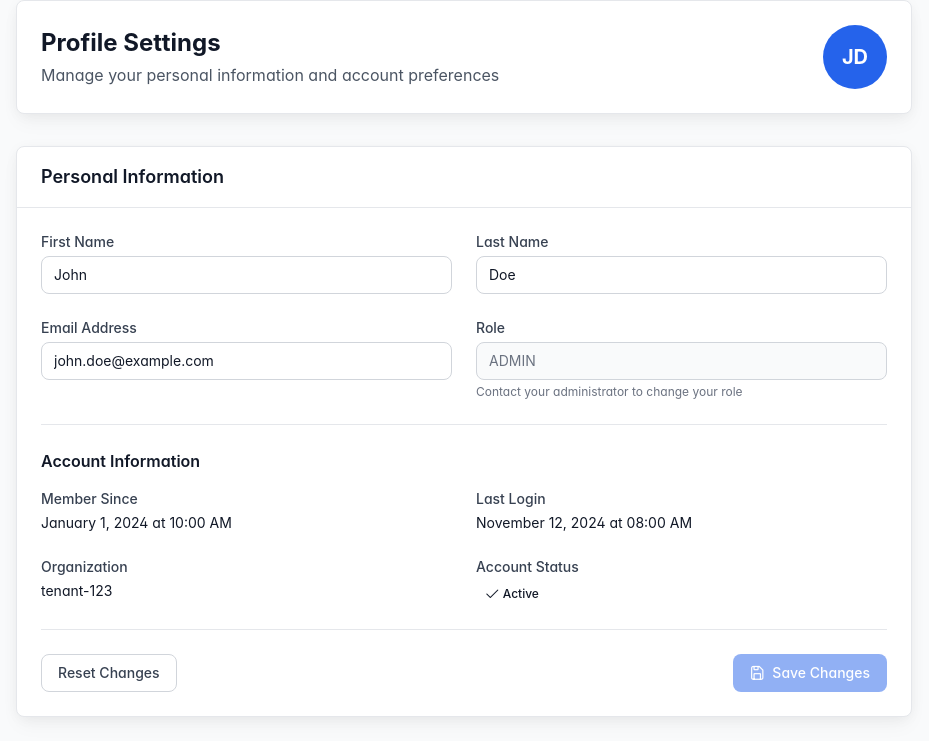
Test: ProfileView › Form Validation › should validate required email
Step 1. Clear the field with id "email" → (246, 361), box top-left (41, 342), bottom-right (452, 380)
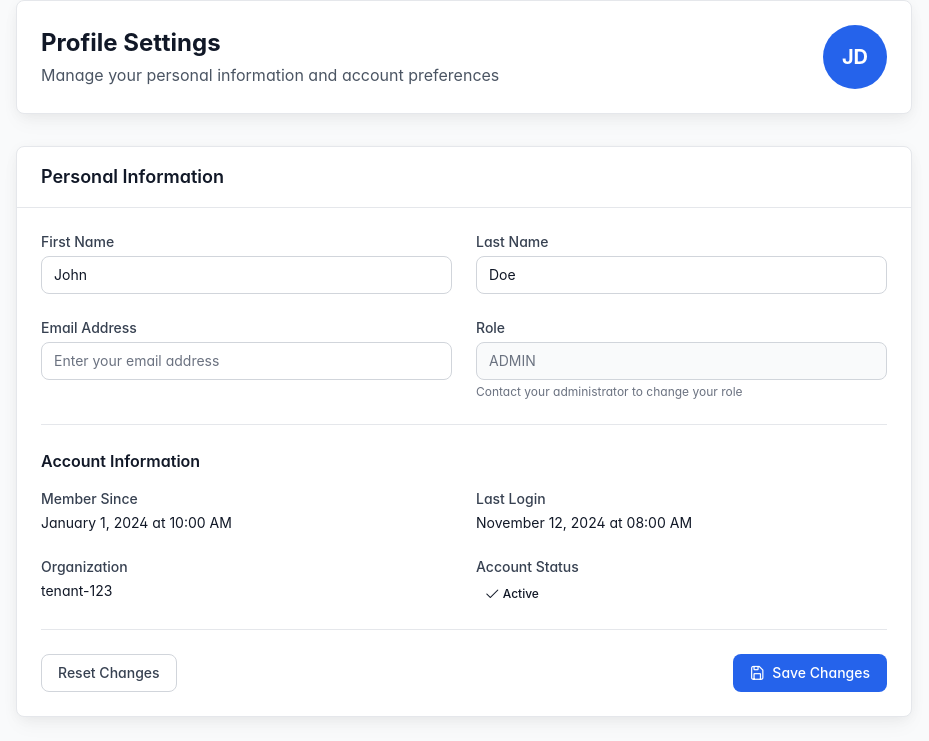
Step 2. Submit the form
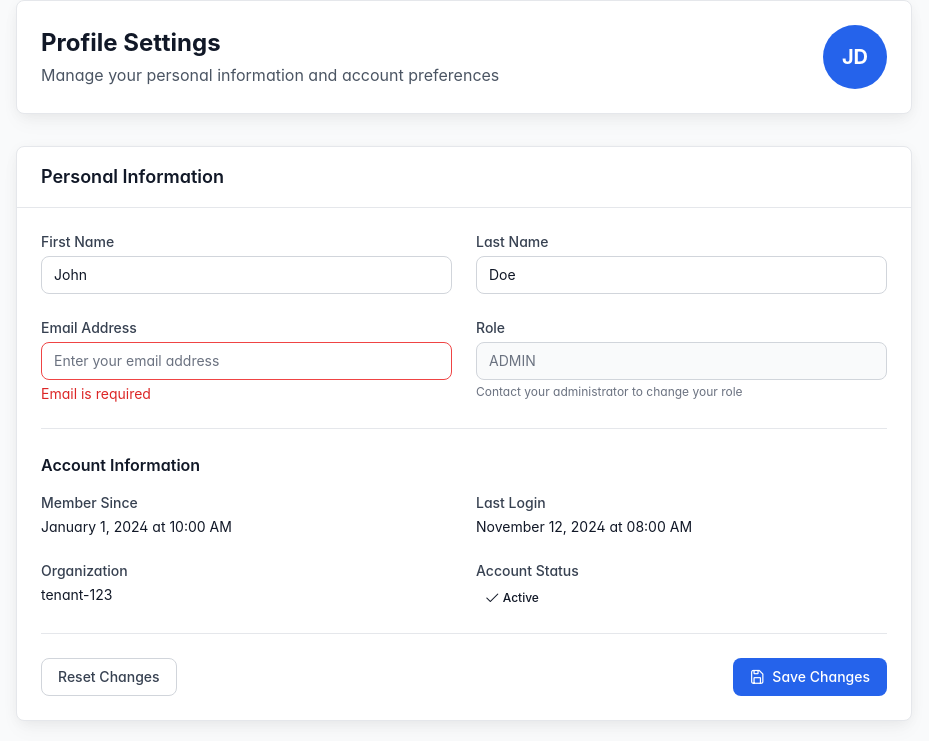
Expected: the text "Email is required" is shown, top-left (41, 385), bottom-right (151, 402)
